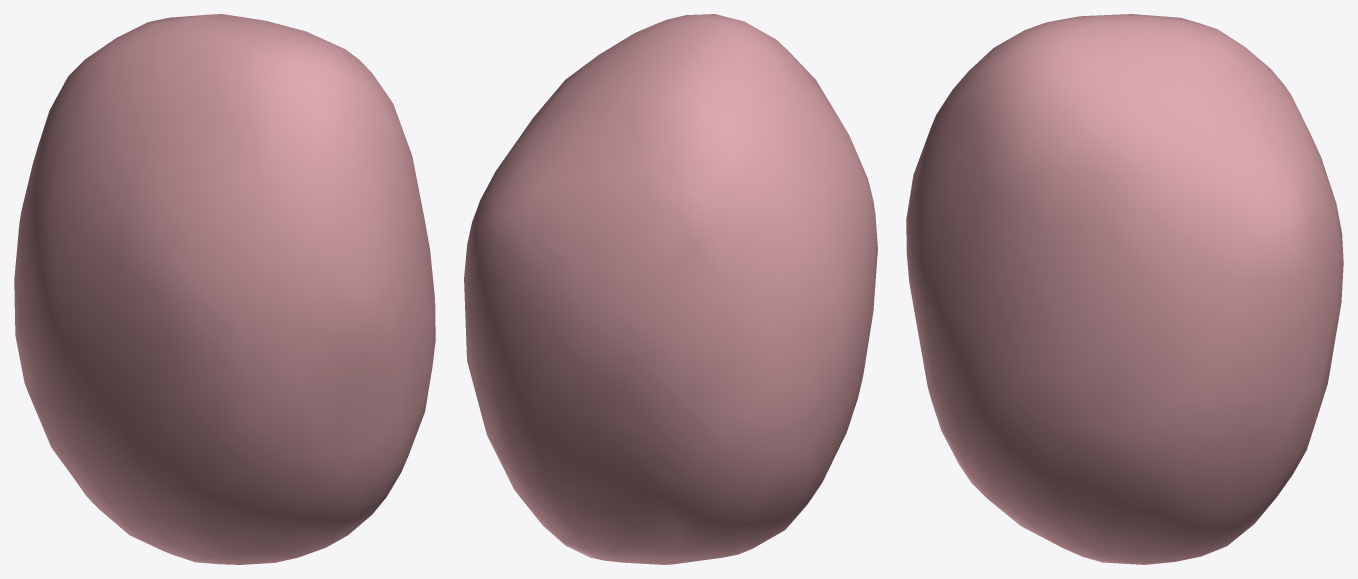
The model's file is visceras-testis-r.glb.
The picture shows the model from 3 angles, left to right: view 1: azimuth 30°, elevation 25°; view 2: azimuth 150°, elevation 25°; view 3: azimuth 270°, elevation 25°; orthographic projection. The views are drawn at different scales.
Visible parts, largest first — view 1: Testis.r; view 2: Testis.r; view 3: Testis.r.
Part boxes in pixels (<box>): Testis.r: <box>14,14,435,564</box>; Testis.r: <box>464,14,877,564</box>; Testis.r: <box>906,14,1343,564</box>.
Size of the model in its own units: 0.0211 by 0.0294 by 0.0227.
